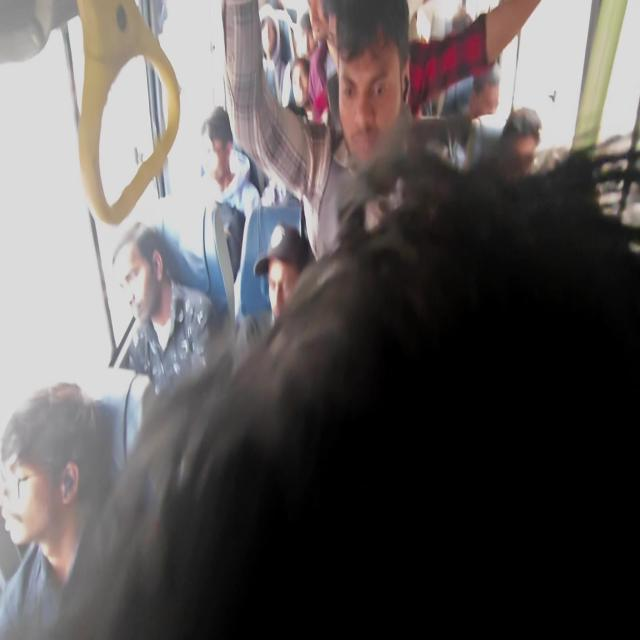person: (213, 377, 640, 640), (335, 7, 406, 156), (5, 393, 80, 527), (92, 236, 166, 362), (256, 231, 314, 329), (506, 115, 564, 198), (205, 106, 240, 196), (456, 14, 497, 89), (324, 4, 355, 66), (473, 70, 506, 109), (291, 61, 316, 112), (299, 22, 325, 69), (259, 14, 279, 68), (310, 3, 334, 46)
